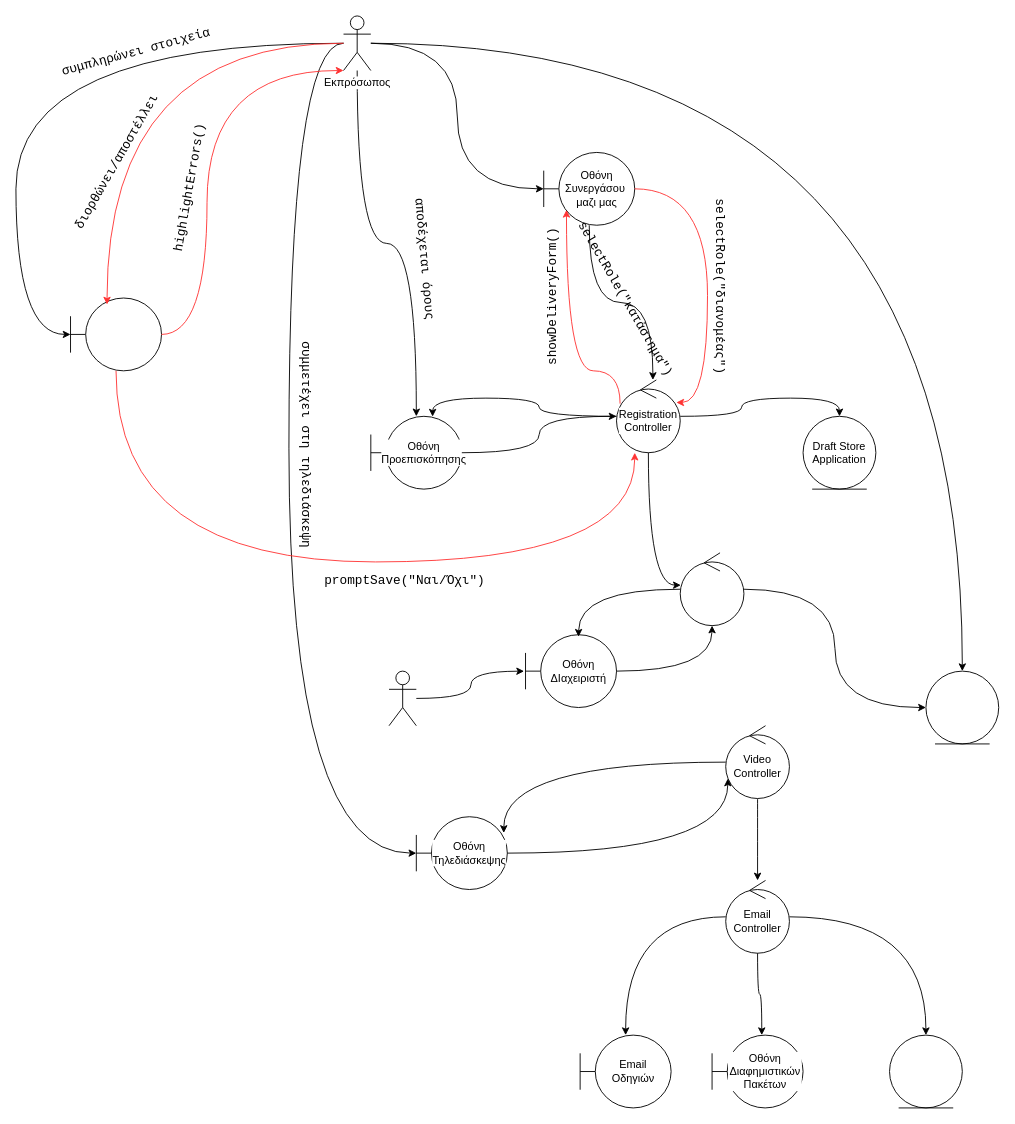
Image size: 1015x1124. Some labels were removed from this diagram. The box of each missing label's shape, as (x1, y1, x2, y2) in pixels:
Admin Controller: (679, 552, 744, 626)
Store Application: (925, 670, 999, 744)
Διαχειριστής: (388, 670, 416, 726)
Προφίλ Καταστήματος: (889, 1034, 962, 1108)
Φόρμα Γνωριμίας: (70, 297, 162, 371)
